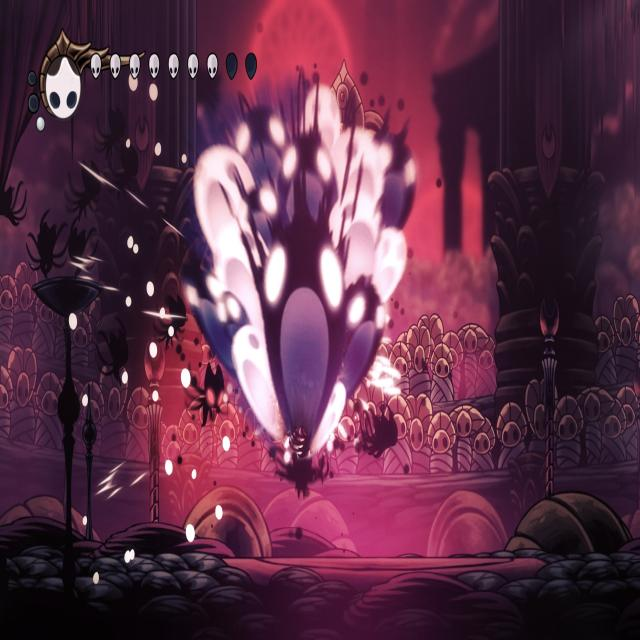Staggered_Grimm: (182, 362, 229, 431)
